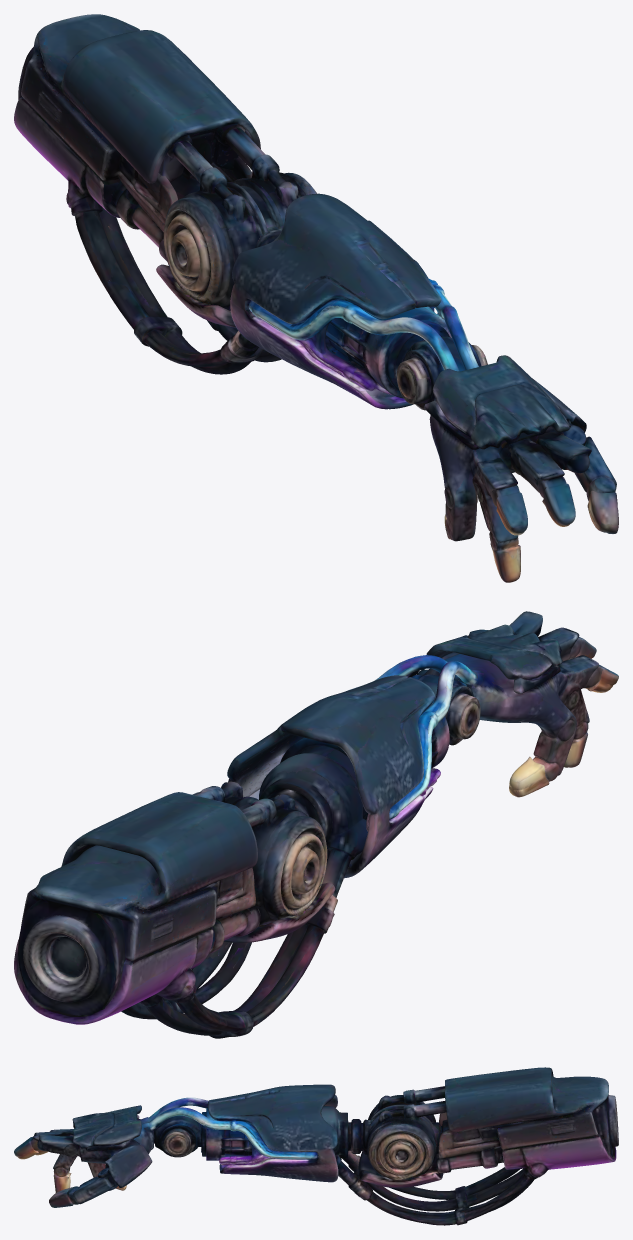
File: robotic_arm_lite.glb
3 views of the same model, one above another, from view 1: azimuth 30°, elevation 25°; view 2: azimuth 150°, elevation 25°; view 3: azimuth 270°, elevation 25° (orthographic). The views are drawn at different scales.
Visible parts, largest first — view 1: node_0; view 2: node_0; view 3: node_0.
Part boxes in pixels (x1,y1,x2,y2): node_0: (14, 14, 618, 582); node_0: (14, 611, 618, 1038); node_0: (14, 1067, 618, 1225).
Bounding box in the file's own units: 0.218 × 0.3138 × 1.2.
1 material, 1 textured.
